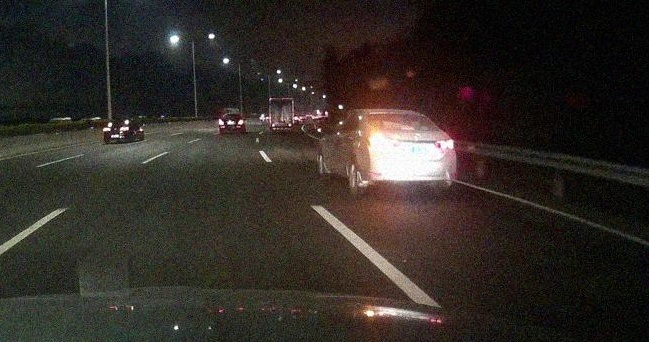L_light: (369, 135, 390, 147), (219, 119, 224, 125), (104, 128, 111, 131), (272, 124, 276, 128)
R_light: (434, 139, 454, 149), (120, 127, 128, 131), (238, 119, 243, 125), (288, 123, 292, 127)
T_light: (392, 114, 407, 117), (116, 121, 121, 123), (279, 100, 284, 101), (229, 115, 234, 116)
night-no: (362, 110, 457, 197), (269, 98, 294, 133), (103, 120, 129, 143), (218, 114, 244, 135)
